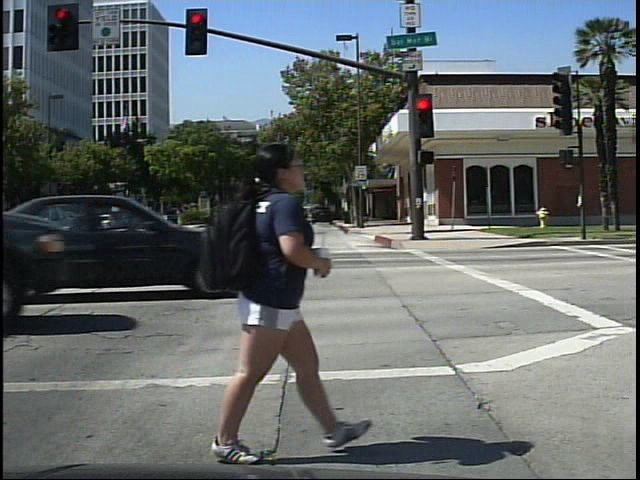person: (200, 129, 341, 468)
